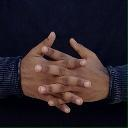hand: (19, 31, 110, 113)
